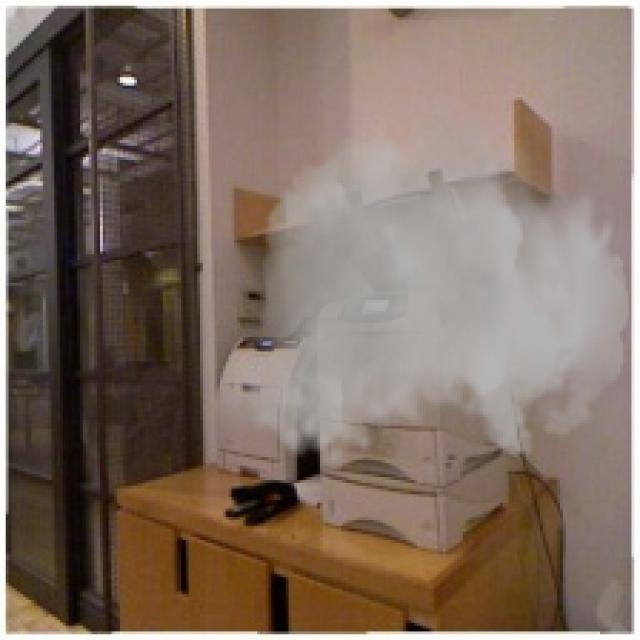smoke: (246, 86, 628, 468)
